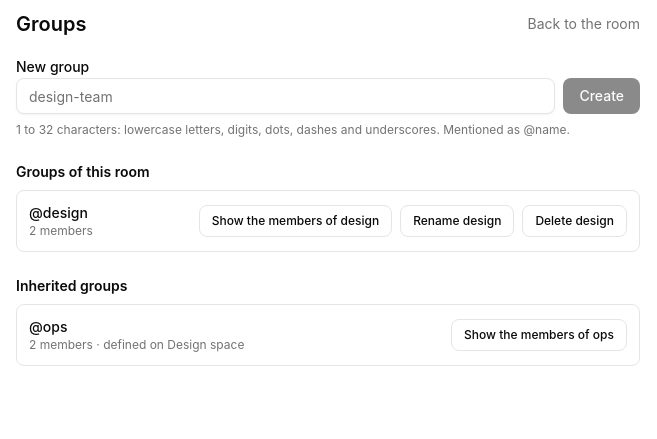
Test: RoomGroups › shows the members of an inherited group without editing controls
The image size is (657, 439).
Expected: the text "@ops" is shown, [29,318,67,335]
What coordinates should you click on to do the following:
click the button "Show the members of ops"
I would click on:
 (539, 335)
Its box is [451,319,627,351].
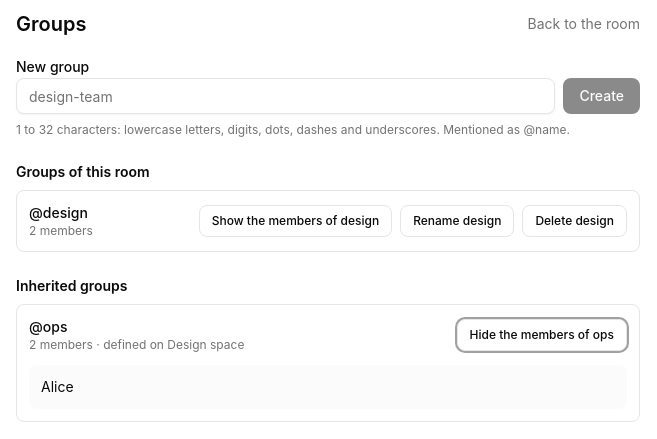
Expected: the text "Alice" is shown, [41,378,74,395]
